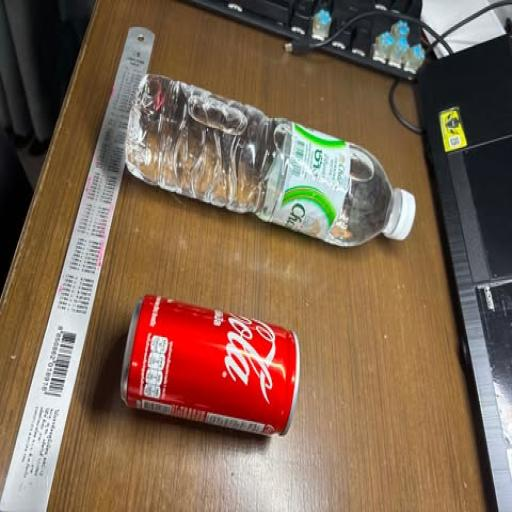bottle: (109, 50, 434, 284)
canned: (100, 290, 328, 447)
